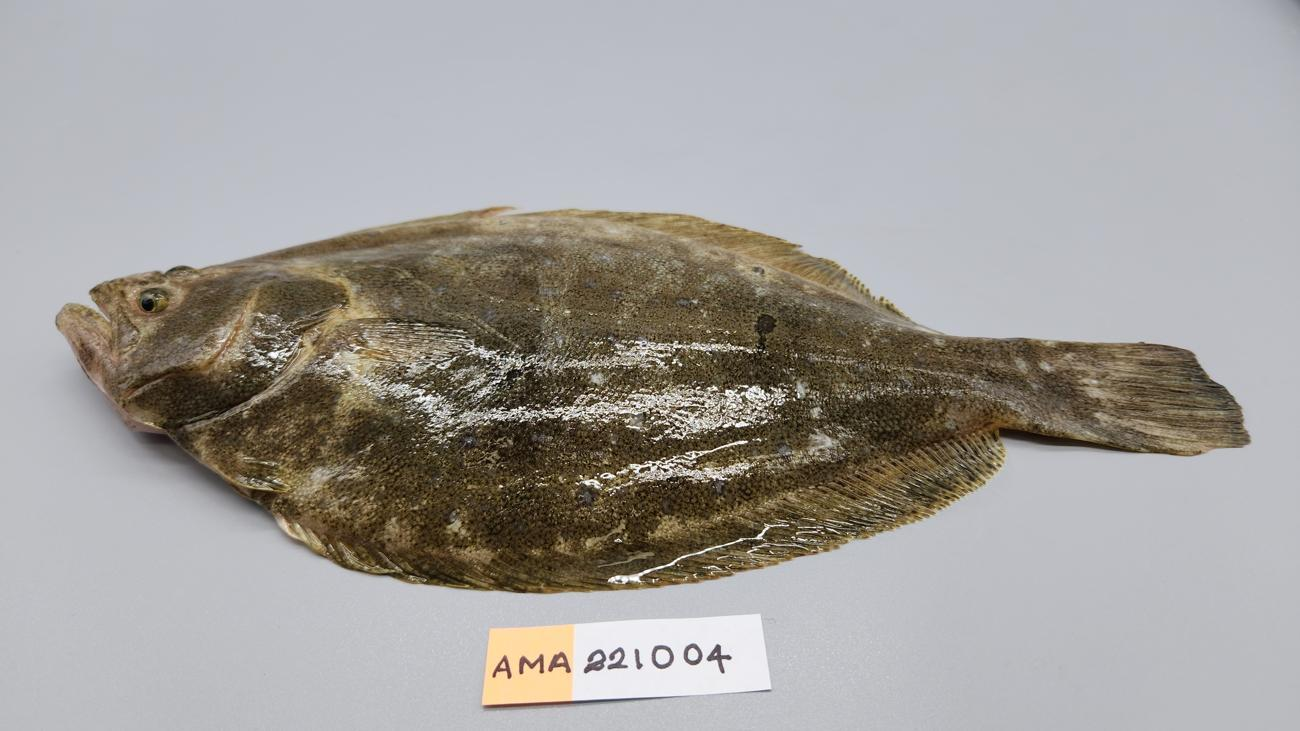MAOUY: (53, 207, 1250, 593)
